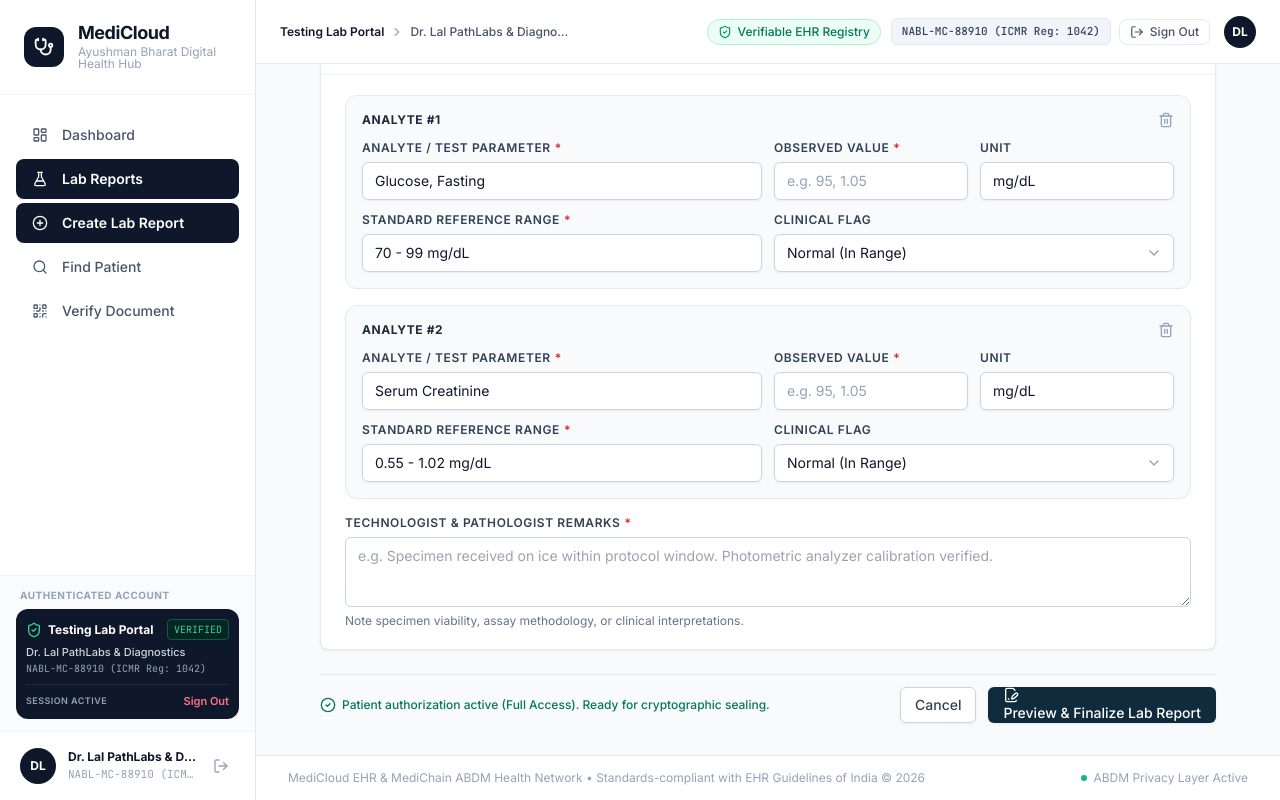
Test: Phase 2 Role-Specific Workflows & Synthetic Data › Testing Lab Screens & Lab Report Workflow › validates required fields in Lab Report Creation Form and rejects empty submissions
The width and height of the screenshot is (1280, 800).
(page scrolled)
Click the button "Preview & Finalize Lab Report".
click(1102, 704)  # box [988,686,1216,722]
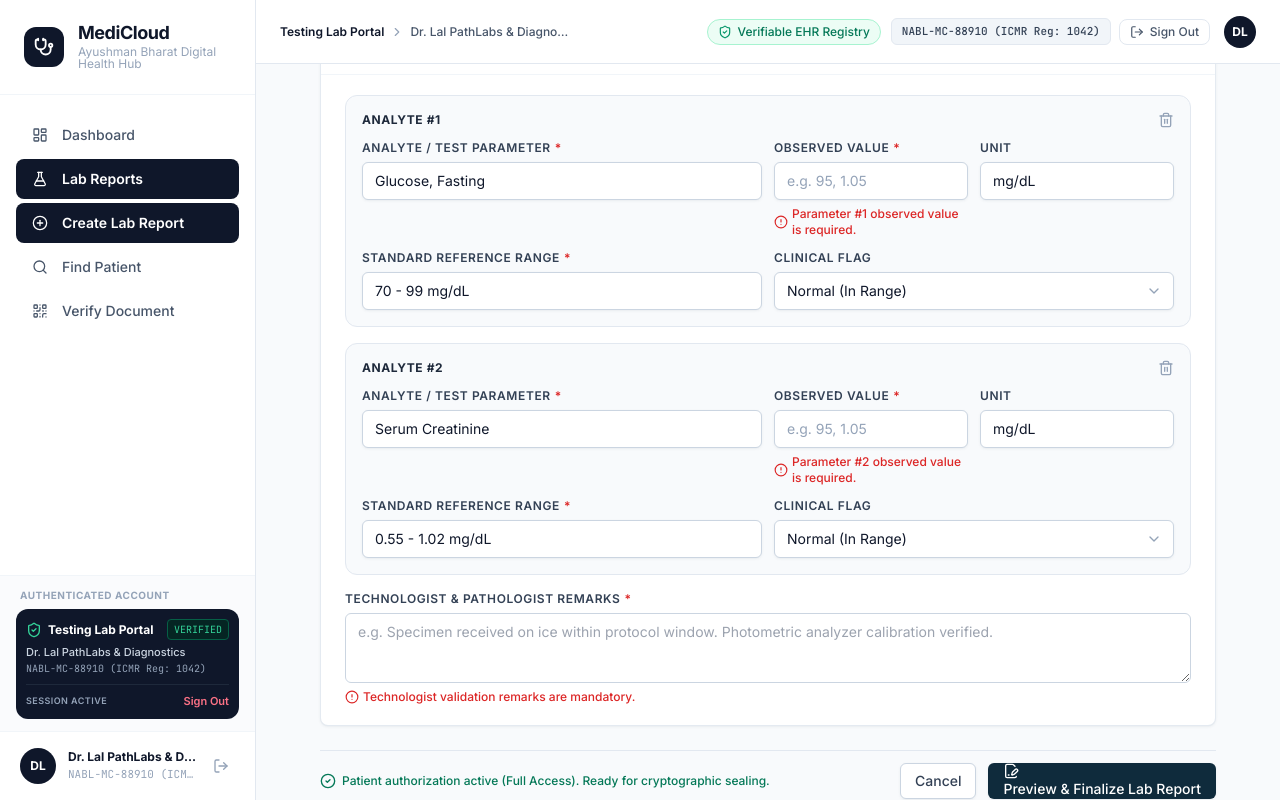
Now the text "Technologist validation remarks are mandatory." is shown, box [363,688,635,704]
Now the text "Parameter #1 observed value is required." is shown, box [792,206,968,238]
